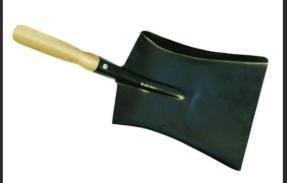PELLE: (0, 16, 268, 183)
